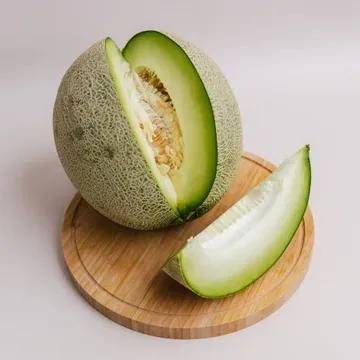Melon Unripe: (54, 31, 241, 229), (178, 145, 310, 297)
